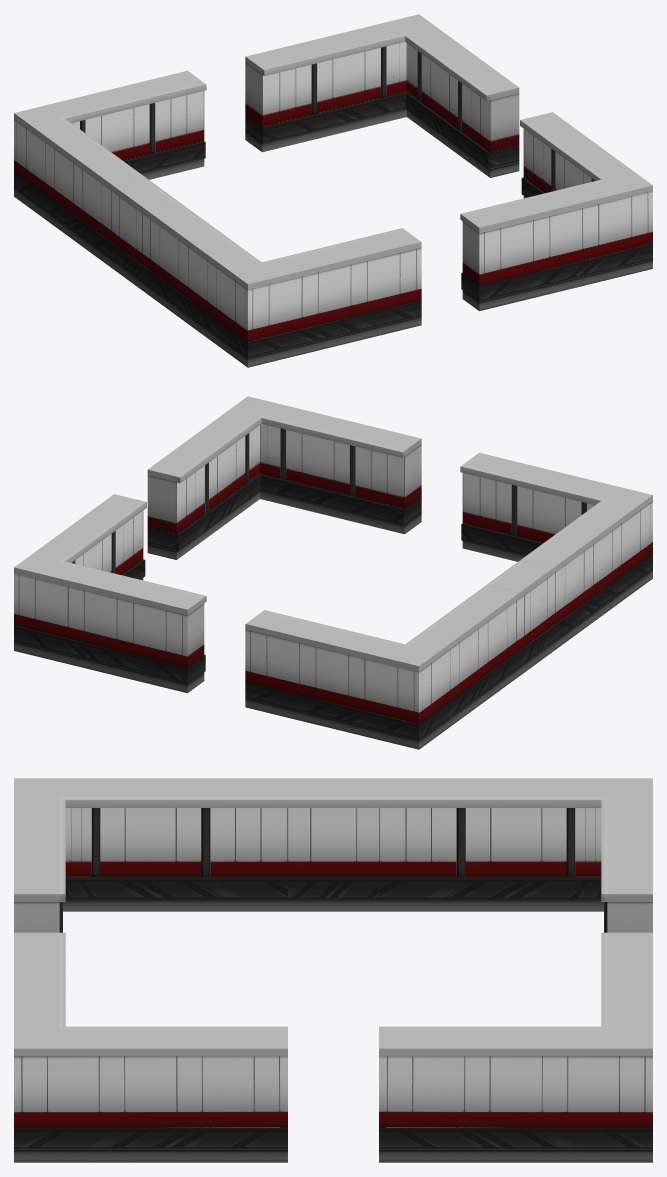
The model's file is Room03.FBX.
3 views of the same model, one above another, from view 1: azimuth 30°, elevation 25°; view 2: azimuth 150°, elevation 25°; view 3: azimuth 270°, elevation 25° (orthographic). The views are drawn at different scales.
Parts seen in each view (by area): view 1: Box047, Box049, Box052, Box051, Box055, Box050, Box054, Box048, Box056; view 2: Box052, Box054, Box047, Box048, Box050, Box055, Box049, Box051, Box056; view 3: Box048, Box051, Box050, Box055, Box056, Box049, Box054, Box047, Box052.
Part boxes in pixels (<box>): Box047: <box>460,179,652,311</box>; Box049: <box>248,228,421,367</box>; Box052: <box>245,14,418,152</box>; Box051: <box>405,14,519,177</box>; Box055: <box>14,113,146,269</box>; Box050: <box>147,203,261,367</box>; Box054: <box>15,70,206,179</box>; Box048: <box>520,112,652,198</box>; Box056: <box>114,178,179,293</box>; Box052: <box>14,561,206,693</box>; Box054: <box>245,610,418,749</box>; Box047: <box>248,396,421,534</box>; Box048: <box>147,396,261,559</box>; Box050: <box>520,495,652,651</box>; Box055: <box>405,585,519,749</box>; Box049: <box>460,452,651,561</box>; Box051: <box>14,494,146,580</box>; Box056: <box>487,560,552,675</box>; Box048: <box>14,1026,287,1162</box>; Box051: <box>379,1026,652,1162</box>; Box050: <box>14,778,287,911</box>; Box055: <box>379,778,652,911</box>; Box056: <box>288,778,378,911</box>; Box049: <box>14,778,65,932</box>; Box054: <box>601,778,652,932</box>; Box047: <box>14,932,65,1048</box>; Box052: <box>601,932,652,1048</box>.
Size of the model in its own units: 140 by 27.57 by 140.
Materials: 1 (1 with a texture image).
